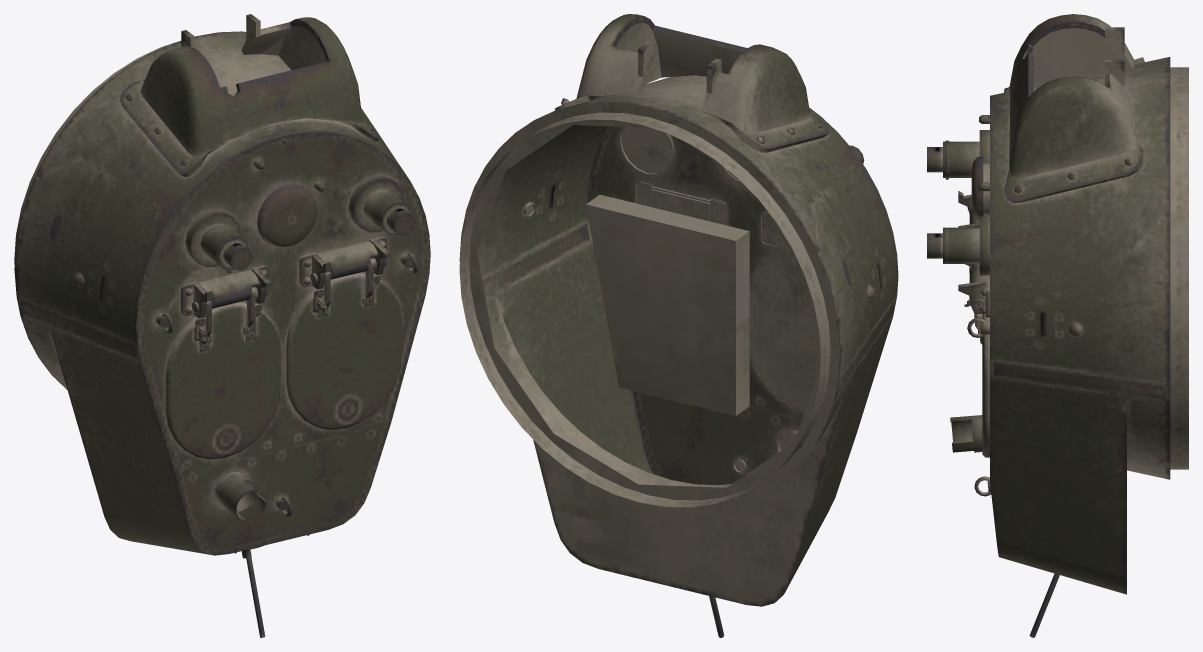
Rendered from Turret_02.glb.
The picture shows the model from 3 angles, left to right: view 1: azimuth 30°, elevation 25°; view 2: azimuth 150°, elevation 25°; view 3: azimuth 270°, elevation 25°; orthographic projection. The views are drawn at different scales.
Visible parts, largest first — view 1: set_0_group_0; view 2: set_0_group_0; view 3: set_0_group_0.
Boxes of the visible parts, x1,y1,x2,y2 form: set_0_group_0: (14,14,430,637); set_0_group_0: (459,14,898,637); set_0_group_0: (927,14,1188,637).
Bounding box in the file's own units: 1.48 × 2.29 × 0.9143.
Materials: 1 (1 with a texture image).
